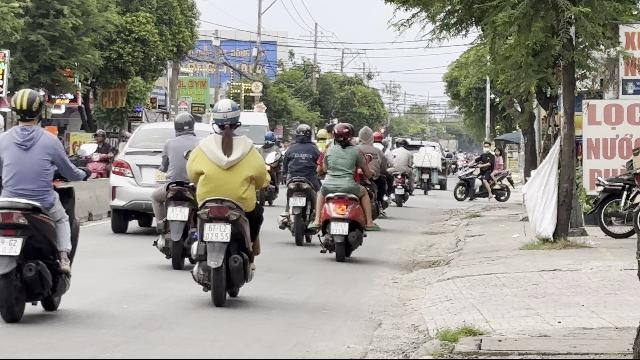helmet: (8, 88, 44, 126), (210, 98, 242, 134), (172, 112, 195, 136), (332, 122, 353, 144), (294, 123, 312, 141)
licenseplate: (204, 223, 230, 241), (166, 206, 188, 220), (330, 221, 350, 234), (290, 198, 306, 206)
motorcyclist: (0, 86, 84, 322), (188, 96, 272, 305), (316, 121, 380, 261), (148, 109, 204, 268), (278, 122, 322, 244)
